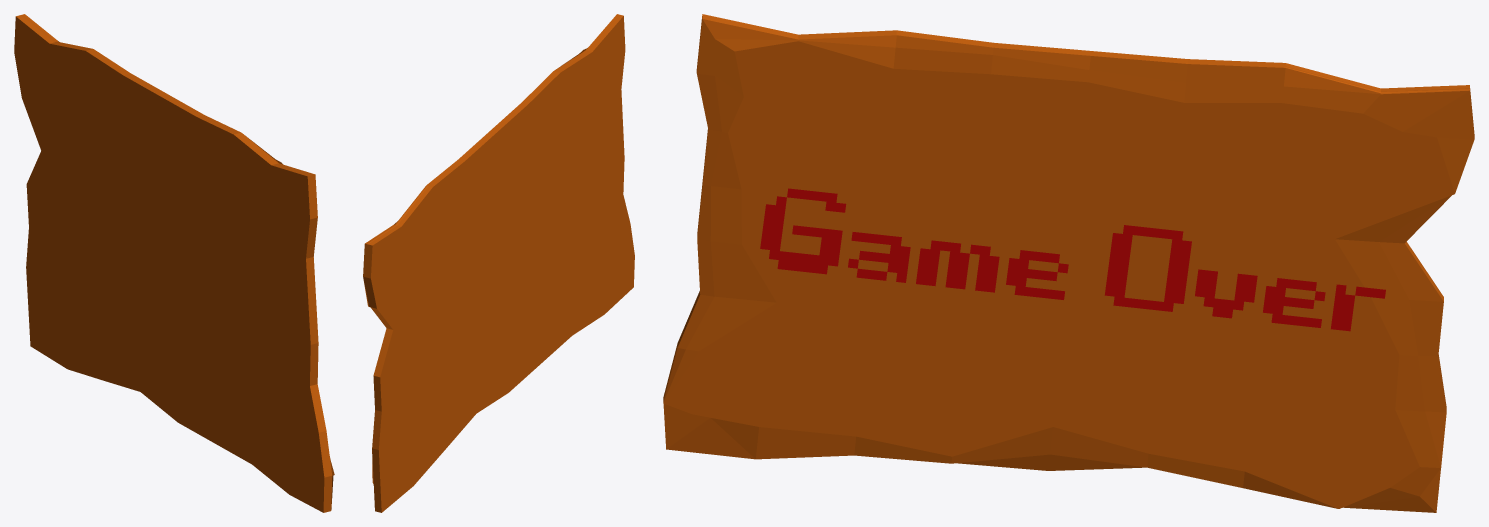
File: Sign2.obj
The picture shows the model from 3 angles, left to right: view 1: azimuth 30°, elevation 25°; view 2: azimuth 150°, elevation 25°; view 3: azimuth 270°, elevation 25°; orthographic projection. The views are drawn at different scales.
Parts seen in each view (by area): view 1: Cube.007_Cube.005; view 2: Cube.007_Cube.005; view 3: Cube.007_Cube.005, Text_Text.001.
Boxes of the visible parts, bbox=[...] form: Cube.007_Cube.005: bbox=[14, 14, 334, 512]; Cube.007_Cube.005: bbox=[363, 14, 634, 512]; Cube.007_Cube.005: bbox=[663, 14, 1474, 512]; Text_Text.001: bbox=[760, 188, 1385, 331].
Bounding box in the file's own units: 0.0326 × 0.6439 × 0.9609.
